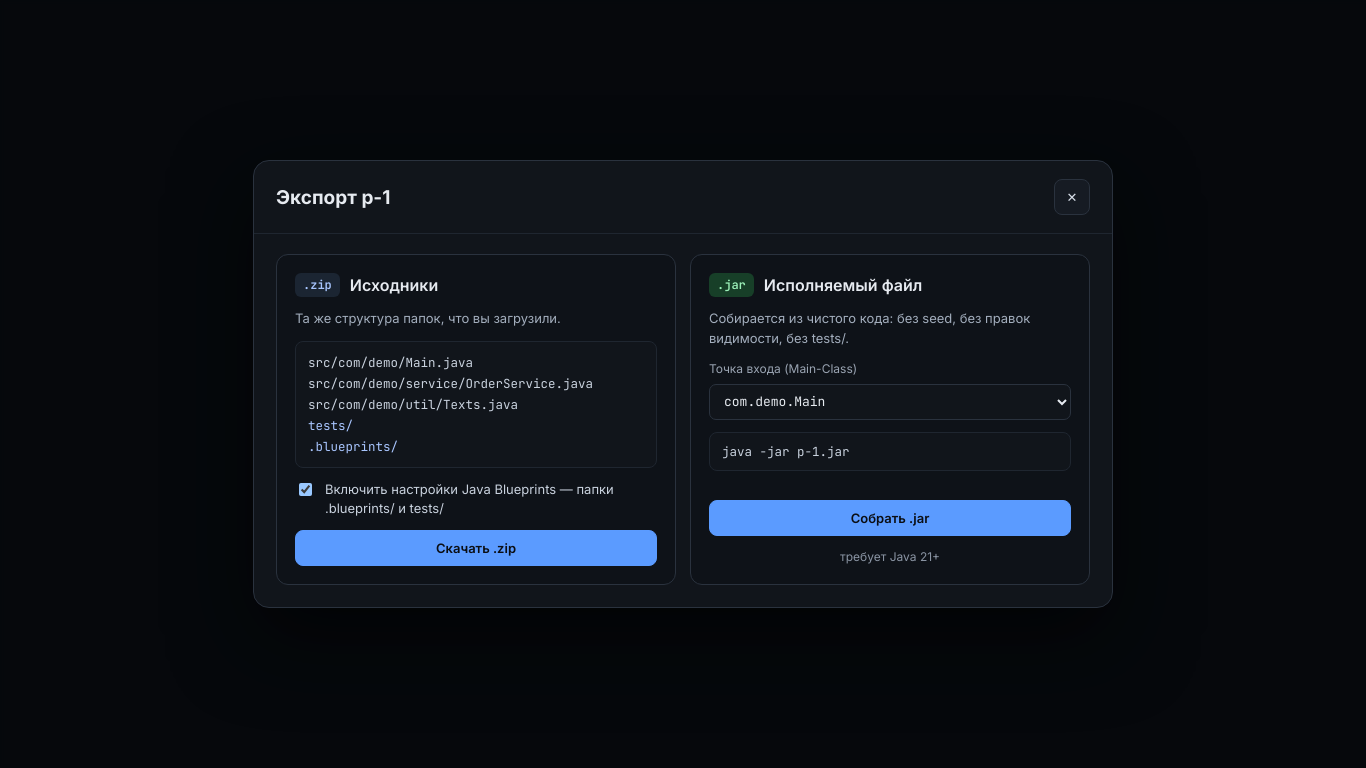
Test case: ExportDialog › .jar 422 COMPILE_ERROR → «Проект не компилируется: …», кнопка неактивна с причиной
Expected: the dropdown labelled "Точка входа (Main-Class)" is shown, [709,384,1071,420]
Click the button "Собрать .jar" at (890, 518), box [709,500,1071,536]
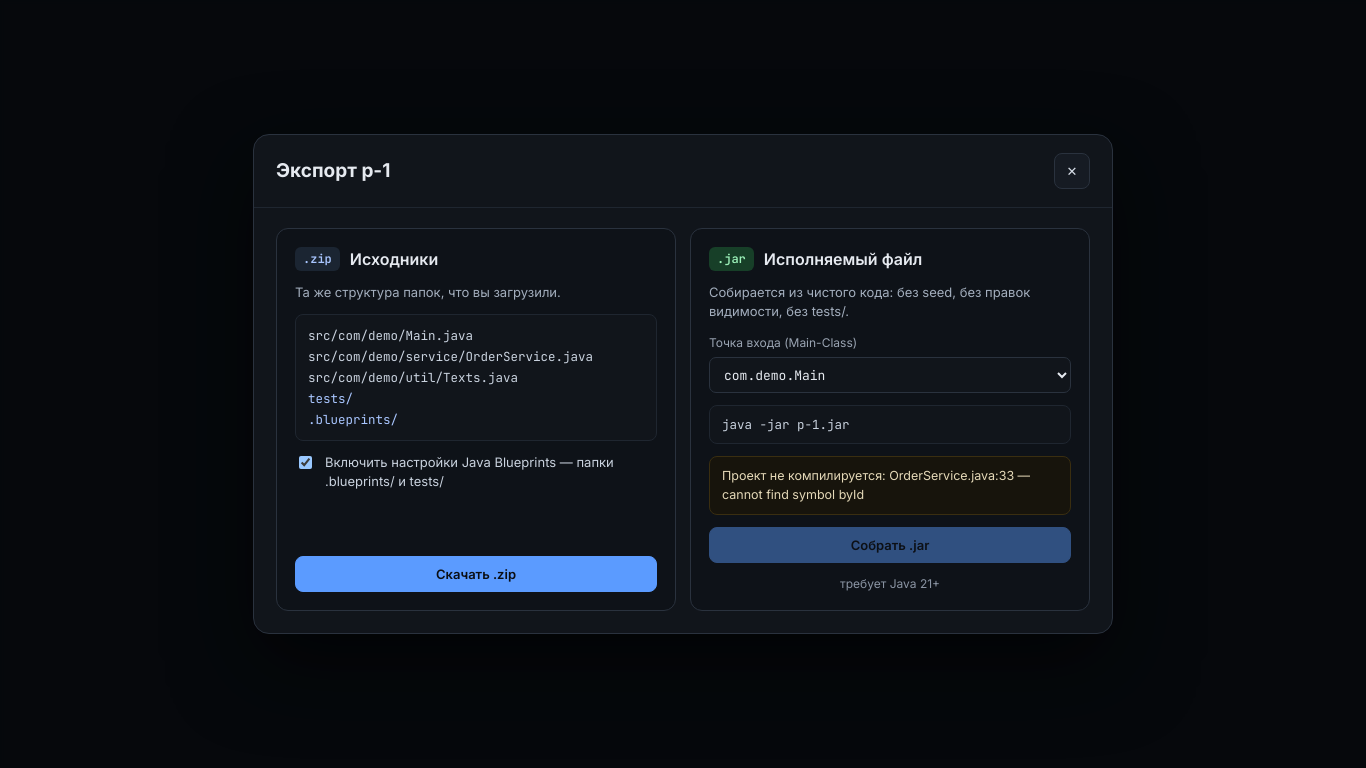
Expected: the message with test id "jar-reason" reads "Проект не компилируется: OrderService.java:33 — cannot find symbol byId", [722,468,1030,502]
Expected: the button "Собрать .jar" is disabled, [709,527,1071,563]
